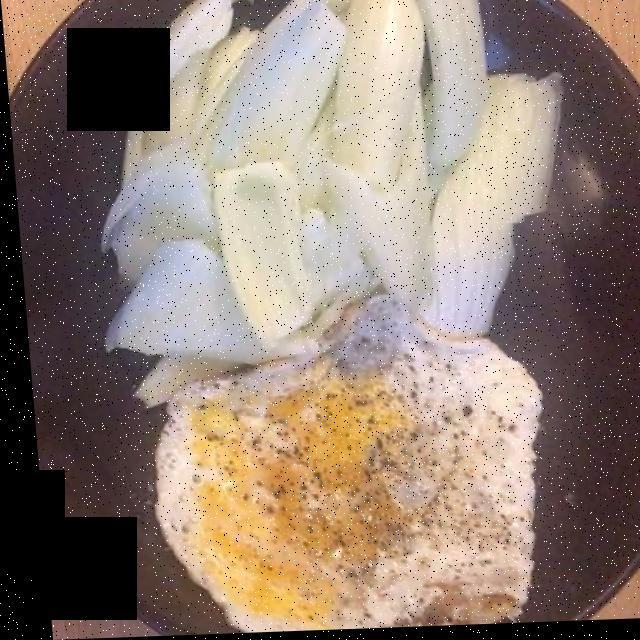cake: (98, 0, 586, 420)
egg: (144, 288, 547, 634)
